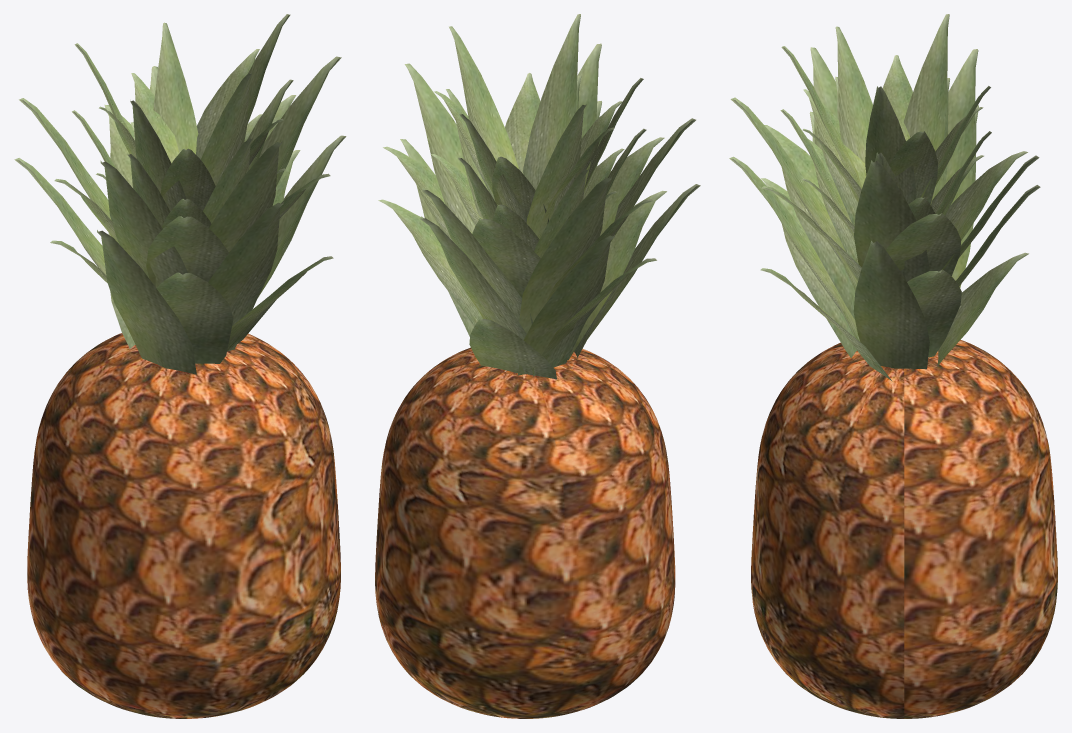
The model's file is pineapple.fbx.
3 renders of one model, left to right at view 1: azimuth 30°, elevation 25°; view 2: azimuth 150°, elevation 25°; view 3: azimuth 270°, elevation 25°, orthographic. The views are drawn at different scales.
Visible parts, largest first — view 1: pineapple, pineapple stem; view 2: pineapple, pineapple stem; view 3: pineapple, pineapple stem.
Boxes of the visible parts, x1,y1,x2,y2 form: pineapple: [27, 333, 340, 718]; pineapple stem: [14, 14, 346, 374]; pineapple: [375, 347, 675, 718]; pineapple stem: [378, 14, 700, 379]; pineapple: [751, 340, 1057, 718]; pineapple stem: [729, 14, 1040, 381].
Size of the model in its own units: 0.9784 by 2.21 by 1.01.
2 materials, 2 textured.
